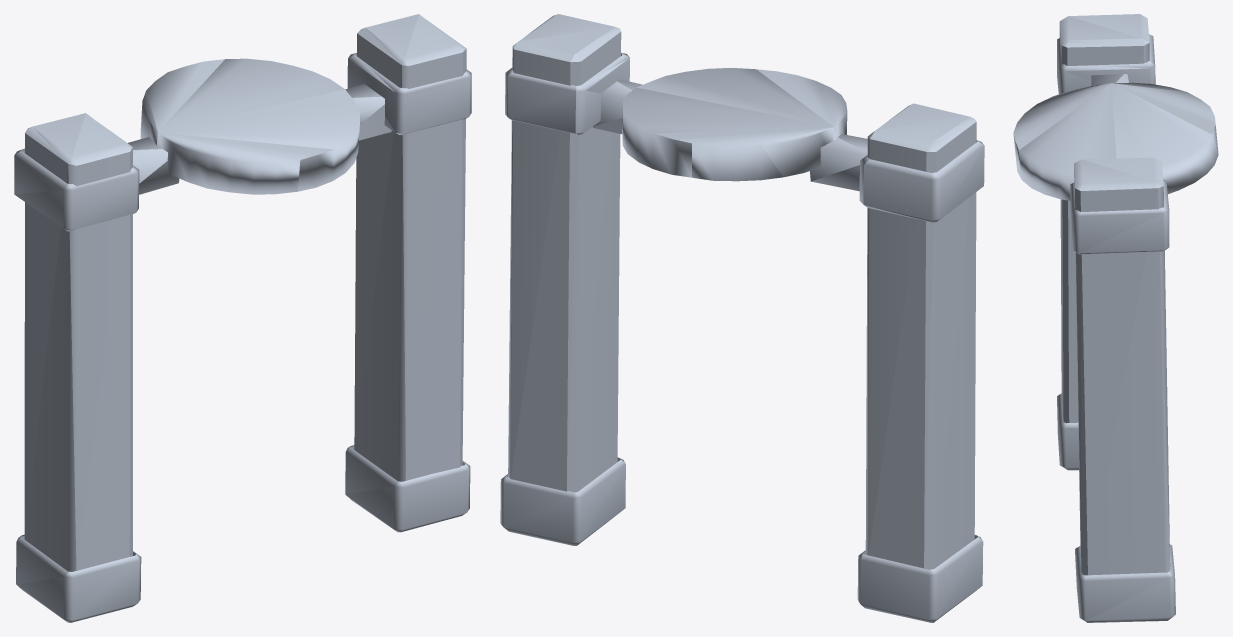
File: Mining Machine.fbx
3 views of the same model, side by side, from view 1: azimuth 30°, elevation 25°; view 2: azimuth 150°, elevation 25°; view 3: azimuth 270°, elevation 25° (orthographic). The views are drawn at different scales.
Visible parts, largest first — view 1: MeshTransformExportRoot; view 2: MeshTransformExportRoot; view 3: MeshTransformExportRoot.
Part boxes in pixels (<box>): MeshTransformExportRoot: <box>14,14,471,622</box>; MeshTransformExportRoot: <box>500,14,984,622</box>; MeshTransformExportRoot: <box>1013,14,1218,622</box>.
Bounding box in the file's own units: 92.77 × 99.8 × 42.38.
